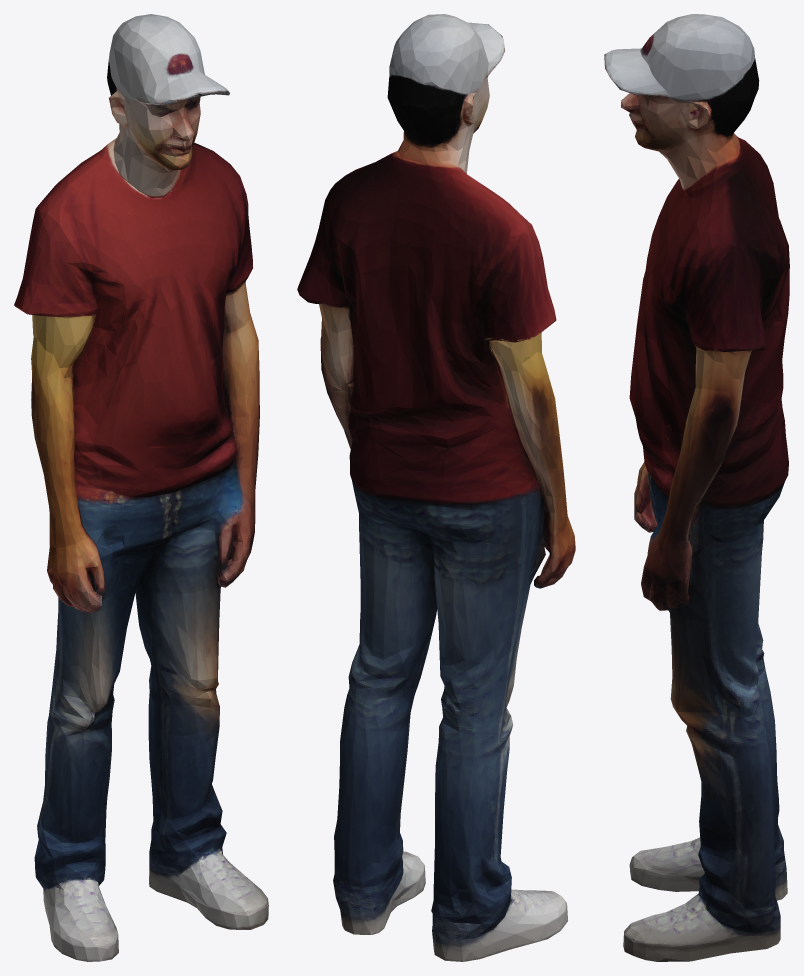
Rendered from rick_jones.glb.
3 views of the same model, side by side, from view 1: azimuth 30°, elevation 25°; view 2: azimuth 150°, elevation 25°; view 3: azimuth 270°, elevation 25° (orthographic).
Visible parts, largest first — view 1: world; view 2: world; view 3: world.
Part boxes in pixels (left/top/right/bottom): world: left=14, top=14, right=268, bottom=961; world: left=297, top=14, right=575, bottom=961; world: left=604, top=14, right=789, bottom=961.
Bounding box in the file's own units: 0.2796 × 0.9992 × 0.187.
1 material, 1 textured.
